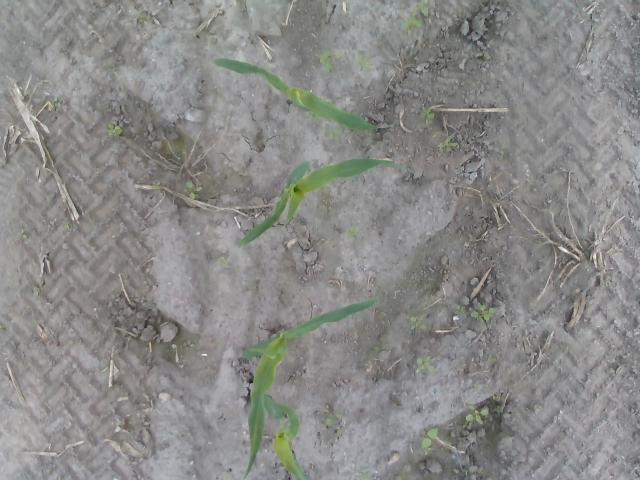Maize: (244, 295, 380, 480), (240, 154, 398, 246), (208, 55, 377, 131), (262, 394, 308, 480)
Weeds: (464, 405, 490, 426), (320, 51, 343, 74), (470, 304, 498, 322), (420, 426, 438, 449), (356, 55, 375, 73), (186, 180, 202, 200), (400, 16, 422, 30), (410, 313, 428, 330), (415, 356, 434, 371), (106, 123, 123, 138), (439, 140, 458, 153), (416, 0, 429, 18), (327, 128, 342, 143), (421, 111, 435, 127), (347, 226, 362, 240), (216, 253, 230, 268), (494, 144, 508, 158), (16, 227, 29, 241), (360, 464, 370, 480), (306, 110, 320, 120), (52, 96, 63, 108), (455, 305, 467, 316), (139, 14, 152, 24), (394, 164, 406, 174), (152, 180, 160, 190), (63, 222, 70, 232)
